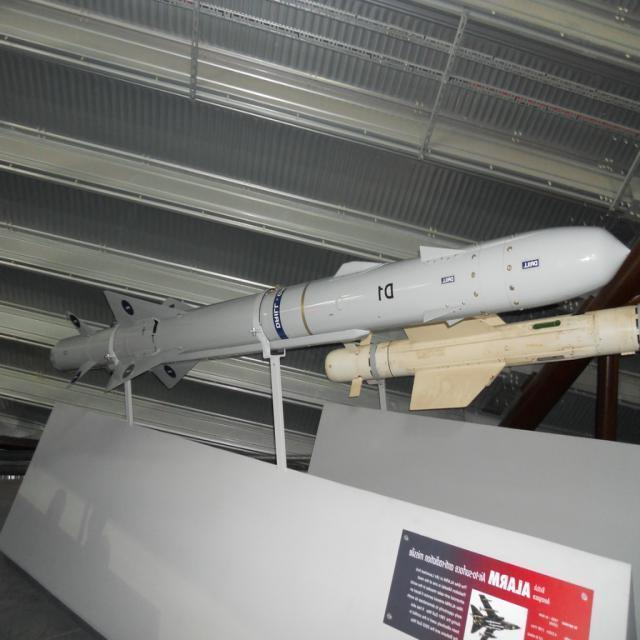missile: (47, 226, 640, 414)
